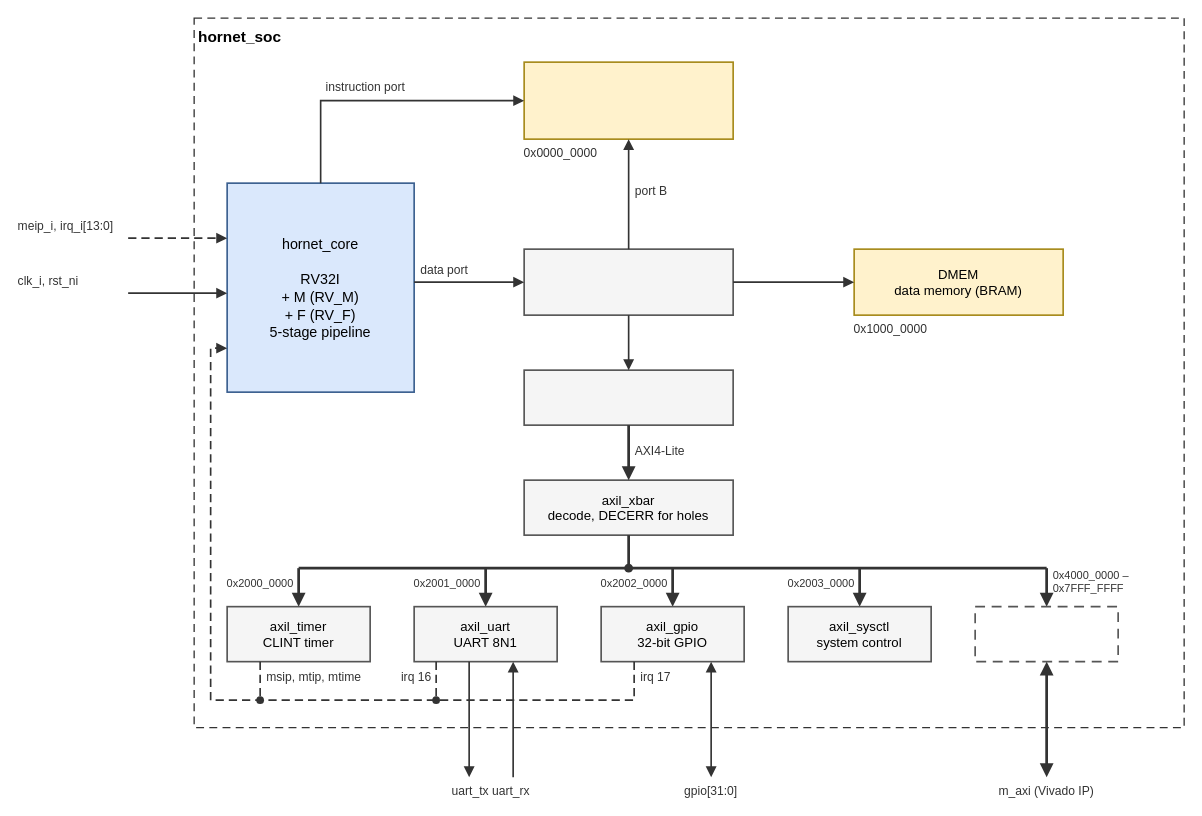
The diagram is 1202 pixels wide and 816 high, and some of its shapes have lost their labels. The box of each missing label's shape, as (x1, y1, x2, y2) in pixels:
data_router address decode: (523, 248, 733, 315)
external m_axi port: (974, 605, 1118, 662)
IMEM instruction memory (true dual-port BRAM): (523, 61, 733, 139)
obi_axil_bridge request/grant → AXI4-Lite: (523, 369, 733, 425)
